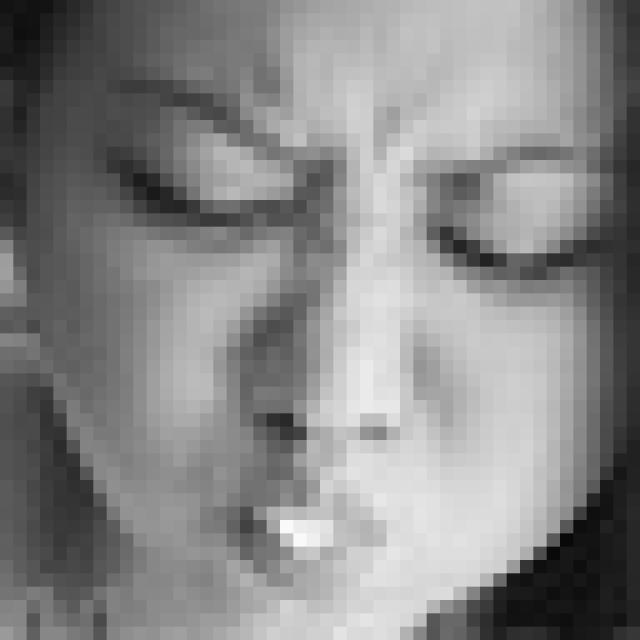disgust: (102, 81, 613, 608)
